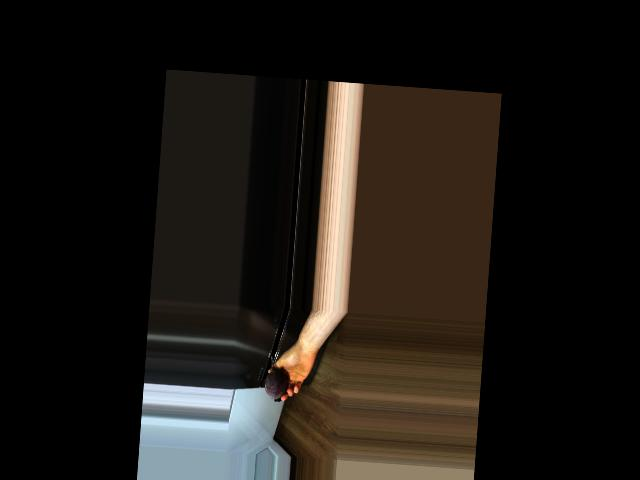beet: (264, 356, 288, 402)
